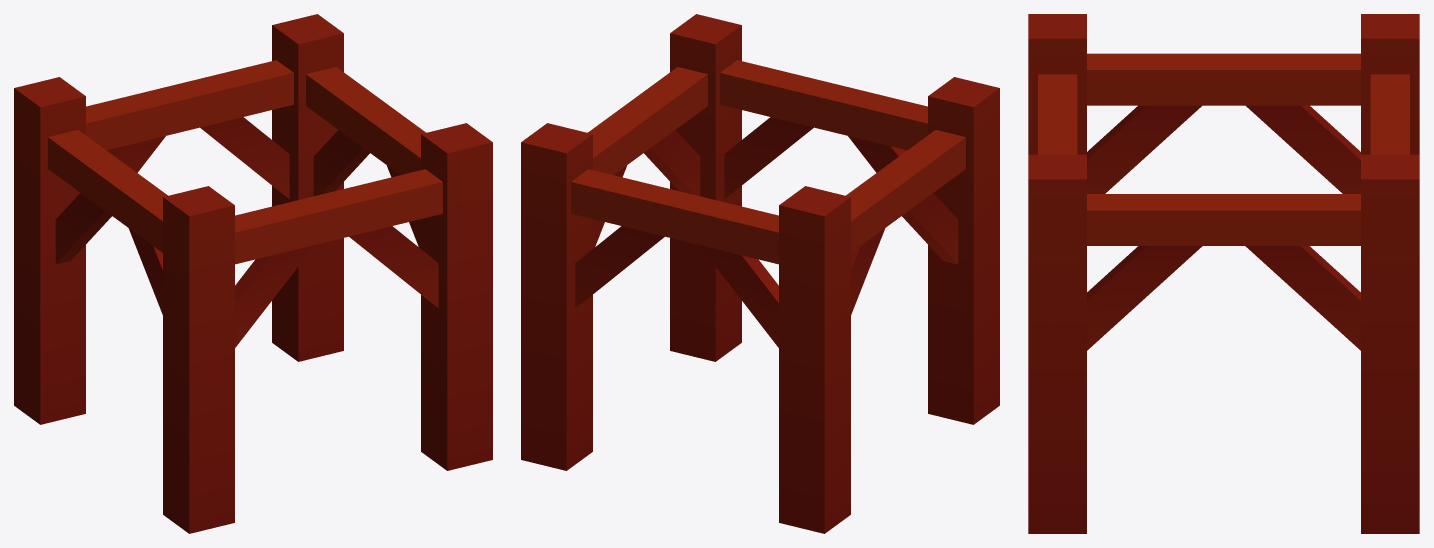
The model's file is wood-structure.fbx.
The picture shows the model from 3 angles, left to right: view 1: azimuth 30°, elevation 25°; view 2: azimuth 150°, elevation 25°; view 3: azimuth 270°, elevation 25°; orthographic projection. The views are drawn at different scales.
Parts seen in each view (by area): view 1: wood-structure; view 2: wood-structure; view 3: wood-structure.
Boxes of the visible parts, x1,y1,x2,y2 form: wood-structure: (14,14,492,533); wood-structure: (521,14,999,533); wood-structure: (1028,14,1419,533).
Bounding box in the file's own units: 10 × 10 × 10.
